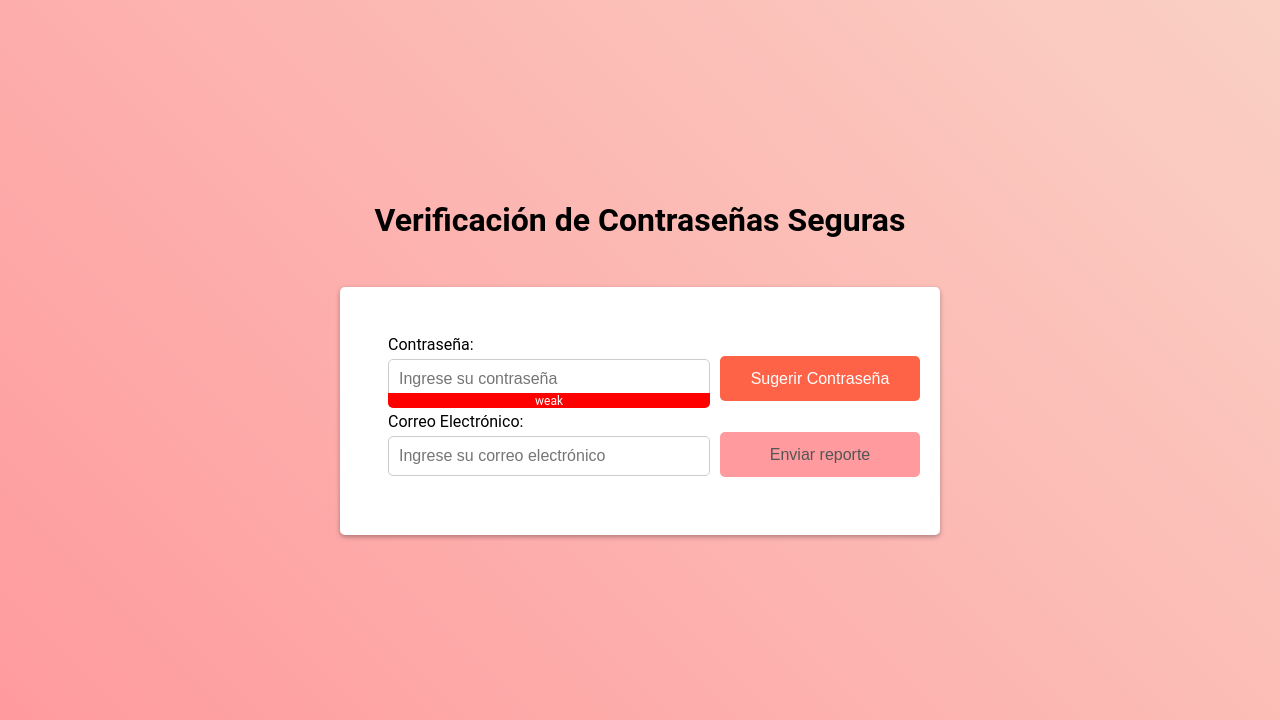
Test: Home › Debería estar habilitado el botón "Enviar reporte" si el formulario es válido
Expected: the element showing "weak" is shown, [388,393,710,408]
Type "Abcdef123!@#" into the element showing "Contraseña: weak Sugerir Contraseña" at [654, 368], box [388,335,920,401]
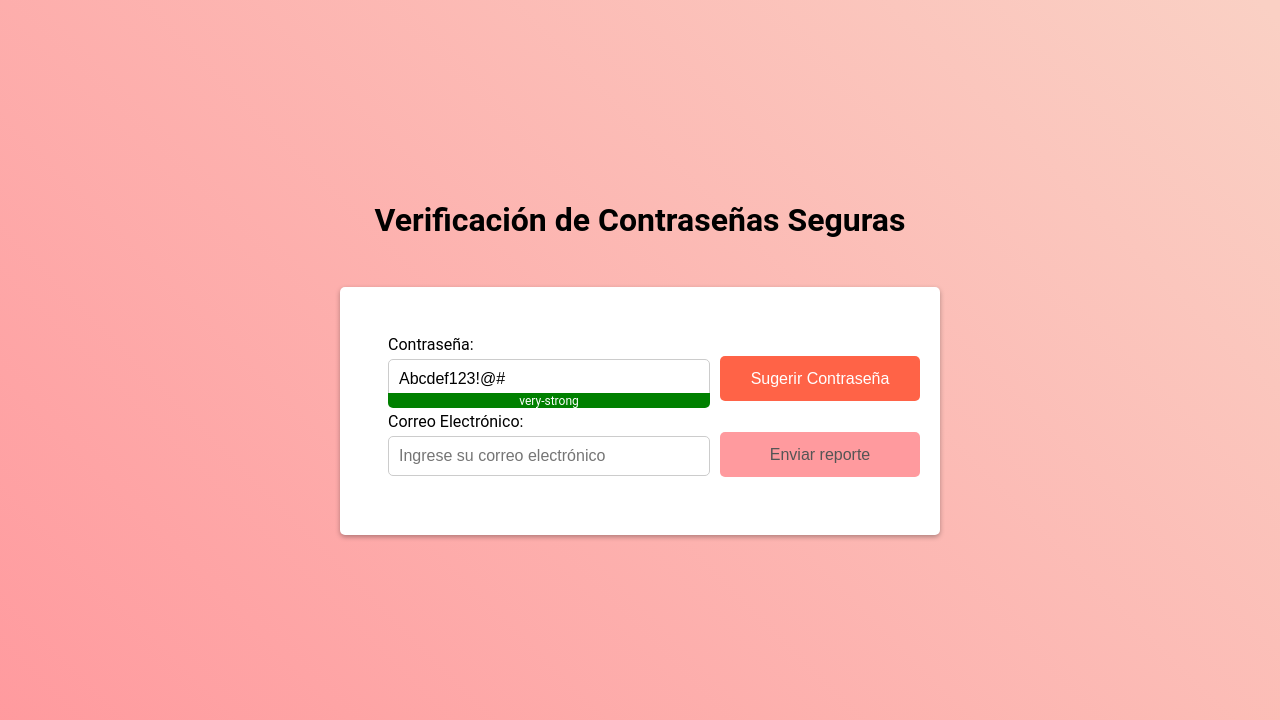
Type "valid@mail.com" into the element with id "emailInput" at [554, 444], box [388,412,720,476]
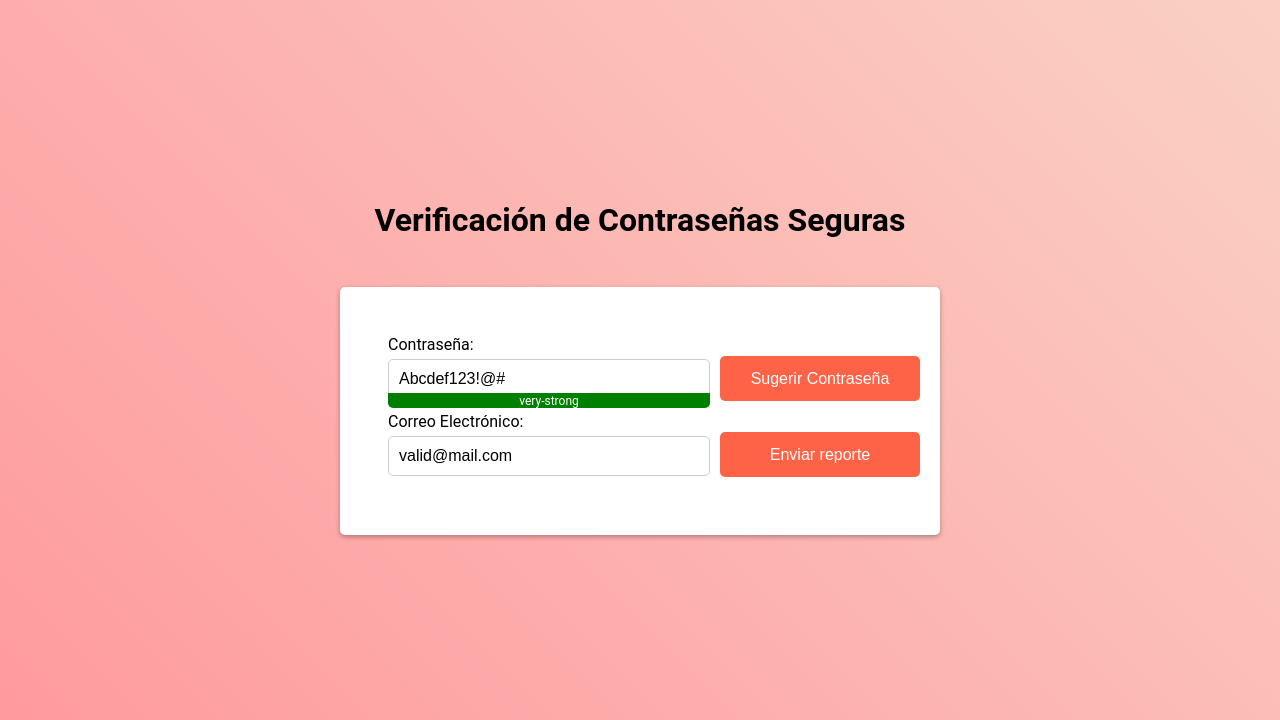
Now the button "Enviar reporte" is enabled, box [720,432,920,477]
